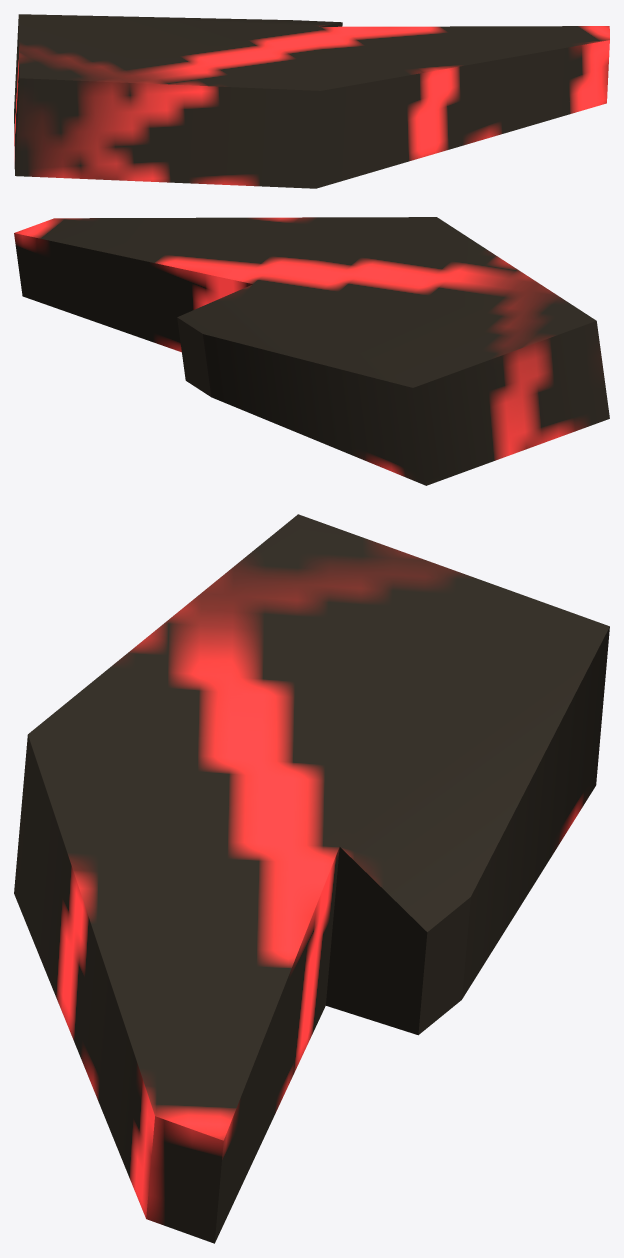
The model's file is Ant_jaw.fbx.
The picture shows the model from 3 angles, top to bottom: view 1: azimuth 30°, elevation 25°; view 2: azimuth 150°, elevation 25°; view 3: azimuth 270°, elevation 25°; orthographic projection. The views are drawn at different scales.
Visible parts, largest first — view 1: pCube3; view 2: pCube3; view 3: pCube3.
Boxes of the visible parts, bbox=[...] form: pCube3: bbox=[14, 14, 609, 188]; pCube3: bbox=[14, 217, 609, 485]; pCube3: bbox=[14, 514, 609, 1243].
Bounding box in the file's own units: 2.67 × 0.5818 × 1.33.
Materials: 1 (1 with a texture image).
